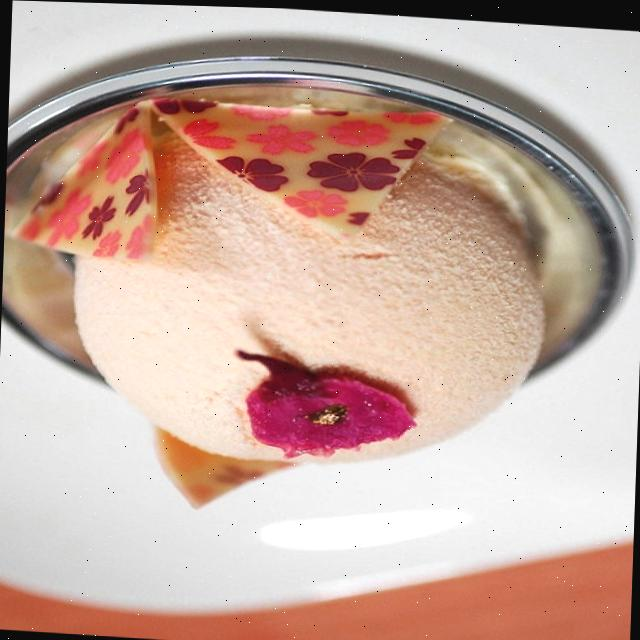蛋糕甜品: (7, 49, 613, 526)
